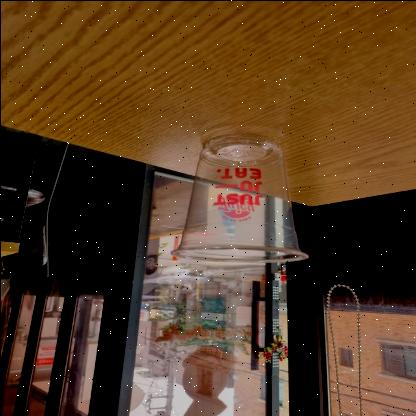Others: (162, 128, 314, 266)
